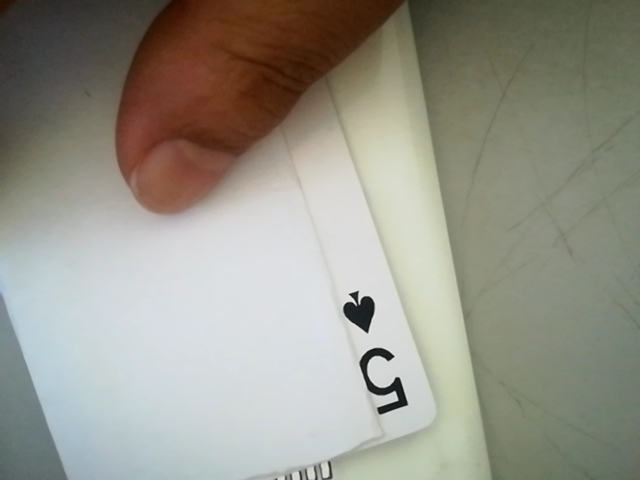ht 5: (330, 286, 435, 425)
